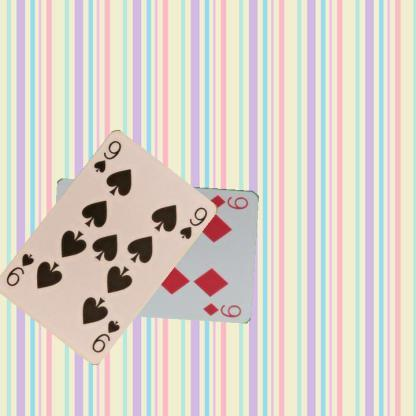9d: (208, 192, 250, 210)
9s: (88, 316, 122, 354), (90, 137, 124, 174)
